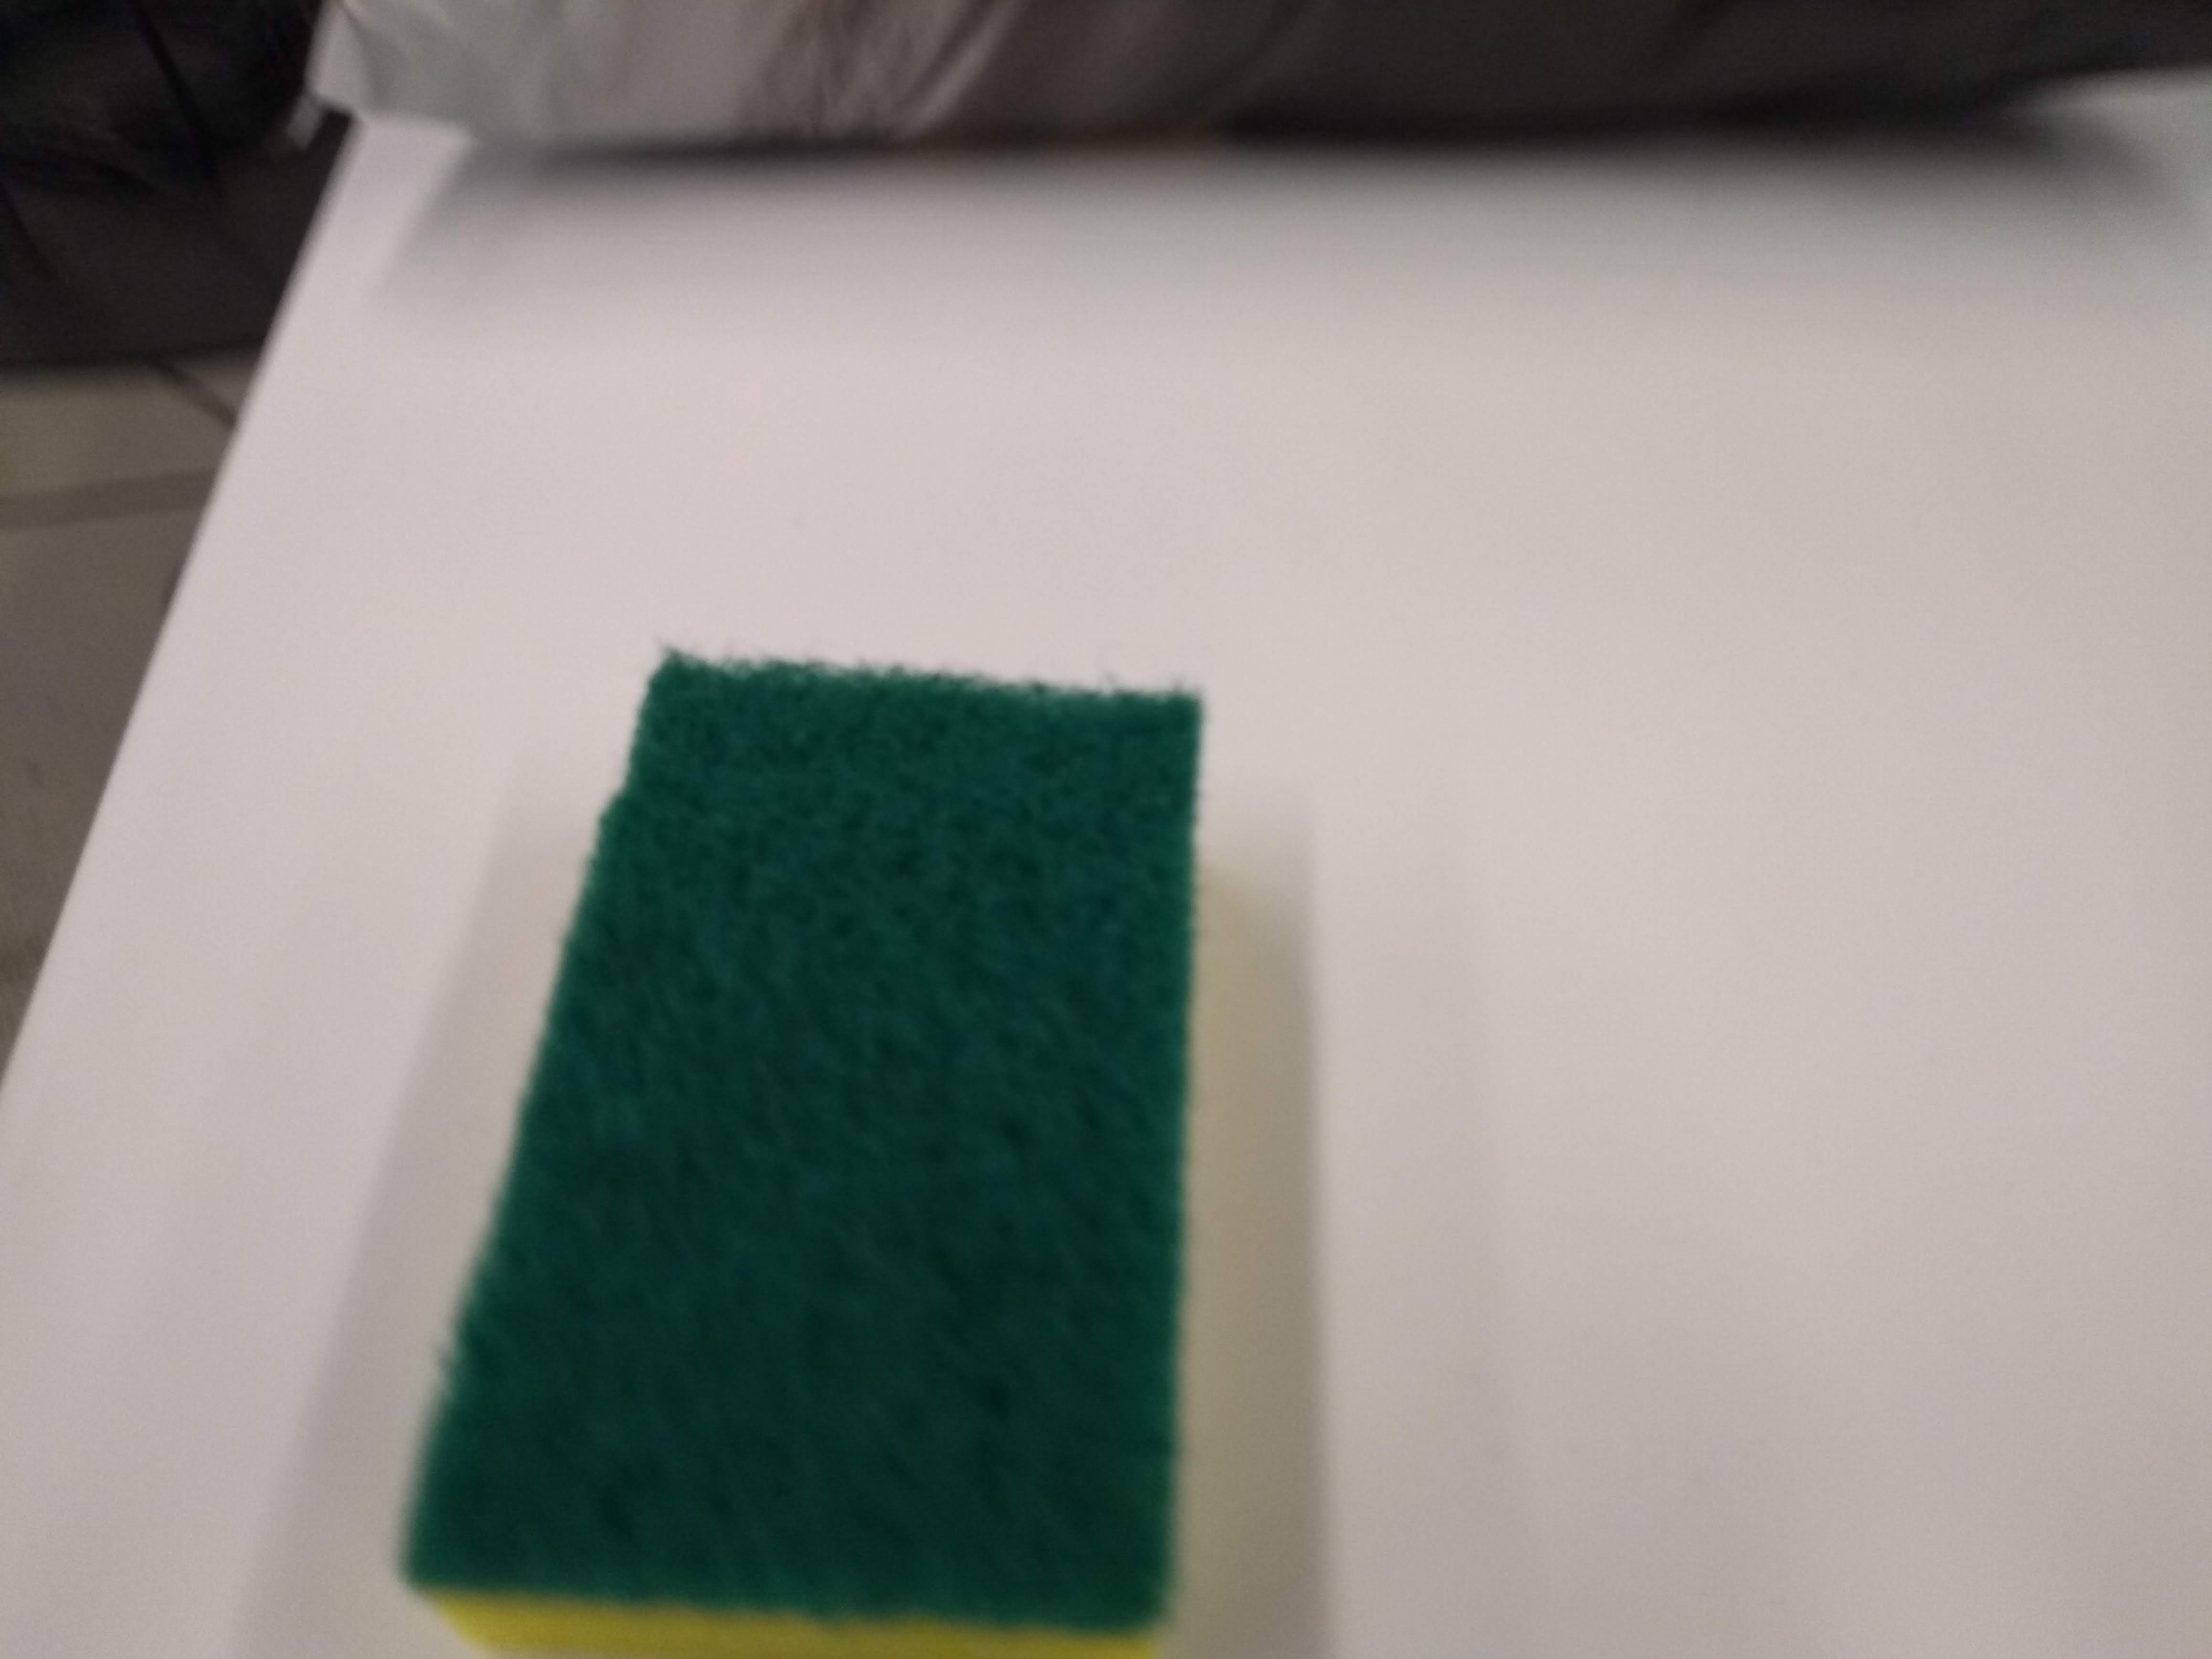scrubby: (380, 610, 1247, 1659)
